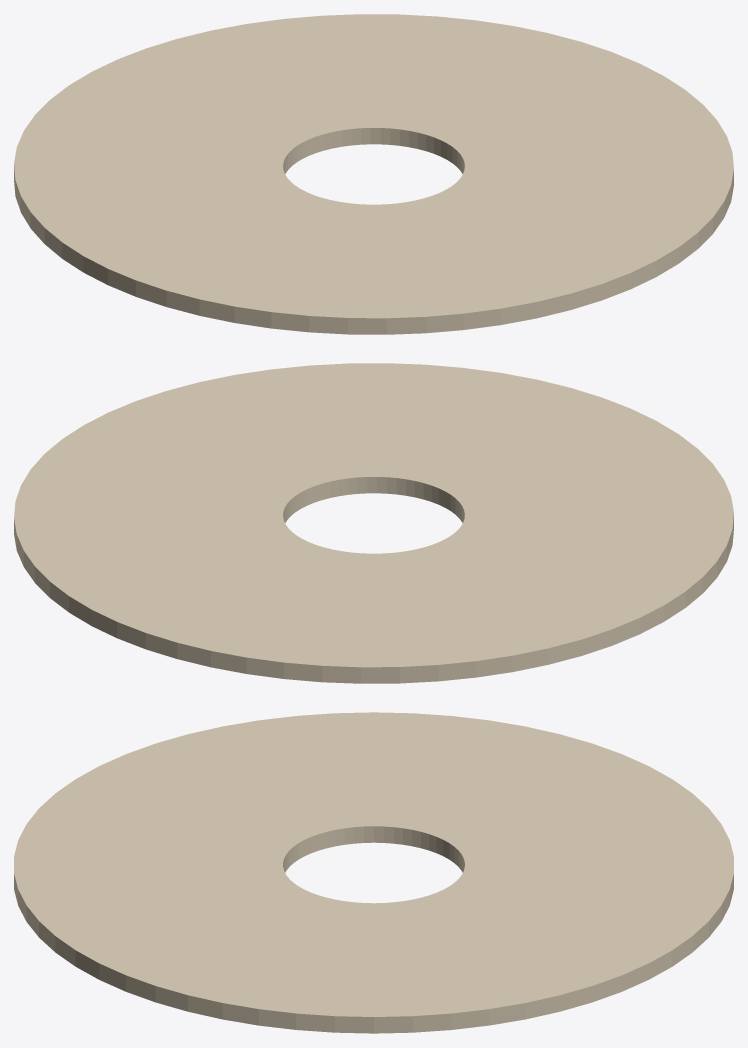
Rendered from regulator-gasket.glb.
The picture shows the model from 3 angles, top to bottom: view 1: azimuth 30°, elevation 25°; view 2: azimuth 150°, elevation 25°; view 3: azimuth 270°, elevation 25°; orthographic projection.
Visible parts, largest first — view 1: world; view 2: world; view 3: world.
Boxes of the visible parts, <box> form: world: <box>14,14,733,334</box>; world: <box>14,363,733,683</box>; world: <box>14,712,733,1033</box>.
Bounding box in the file's own units: 0.0396 × 0.001 × 0.0395.
